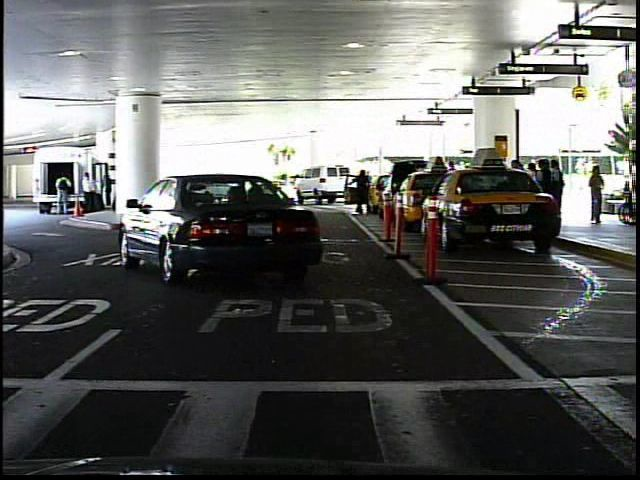person: (351, 166, 375, 219), (588, 163, 608, 226)
